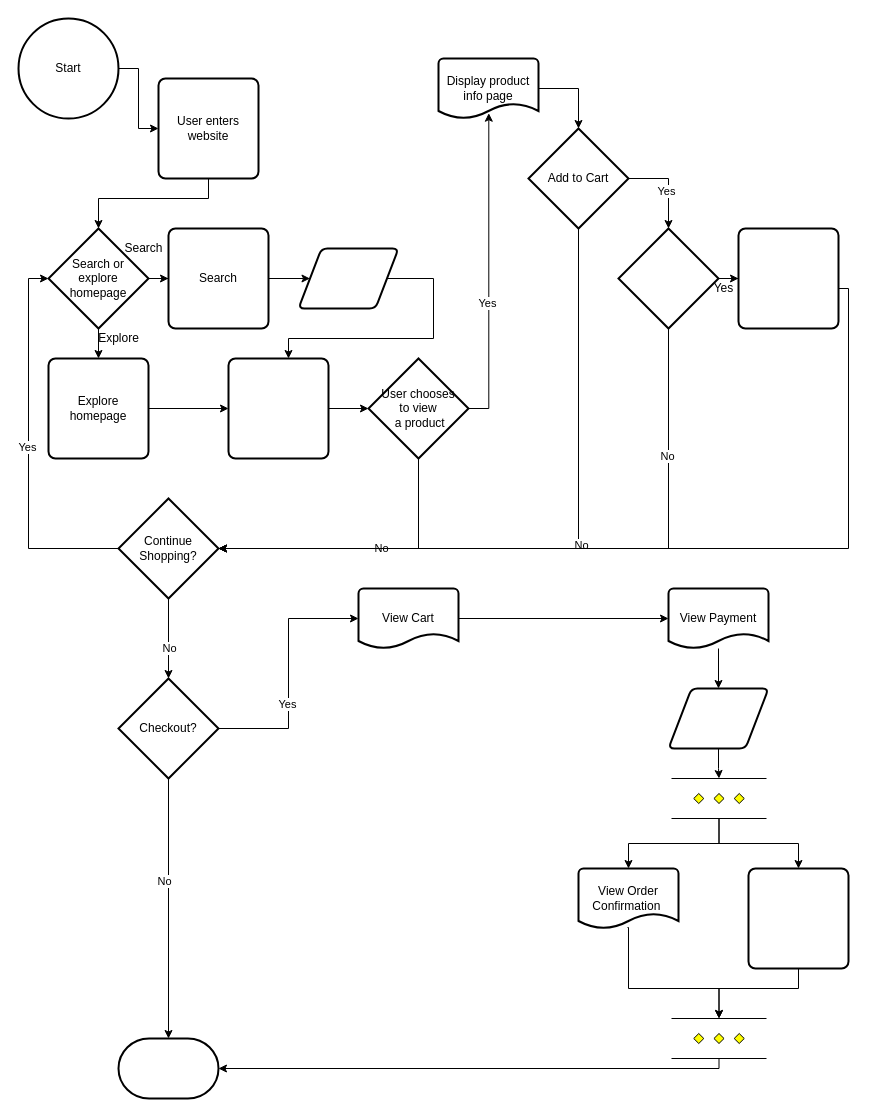
This 874x1116 diagram has some shape labels left out. The shapes that lost their labels are listed below. From the top down, each one's centre as x and y in pixels, then its label:
At pixel 348 278: "User enters search query".
At pixel 668 278: "Add to Cart confirmation".
At pixel 788 278: "Add item to user's Cart".
At pixel 278 408: "User looks over products".
At pixel 718 718: "User enters payment info".
At pixel 798 918: "Send confirmation email".
At pixel 168 1068: "End".
